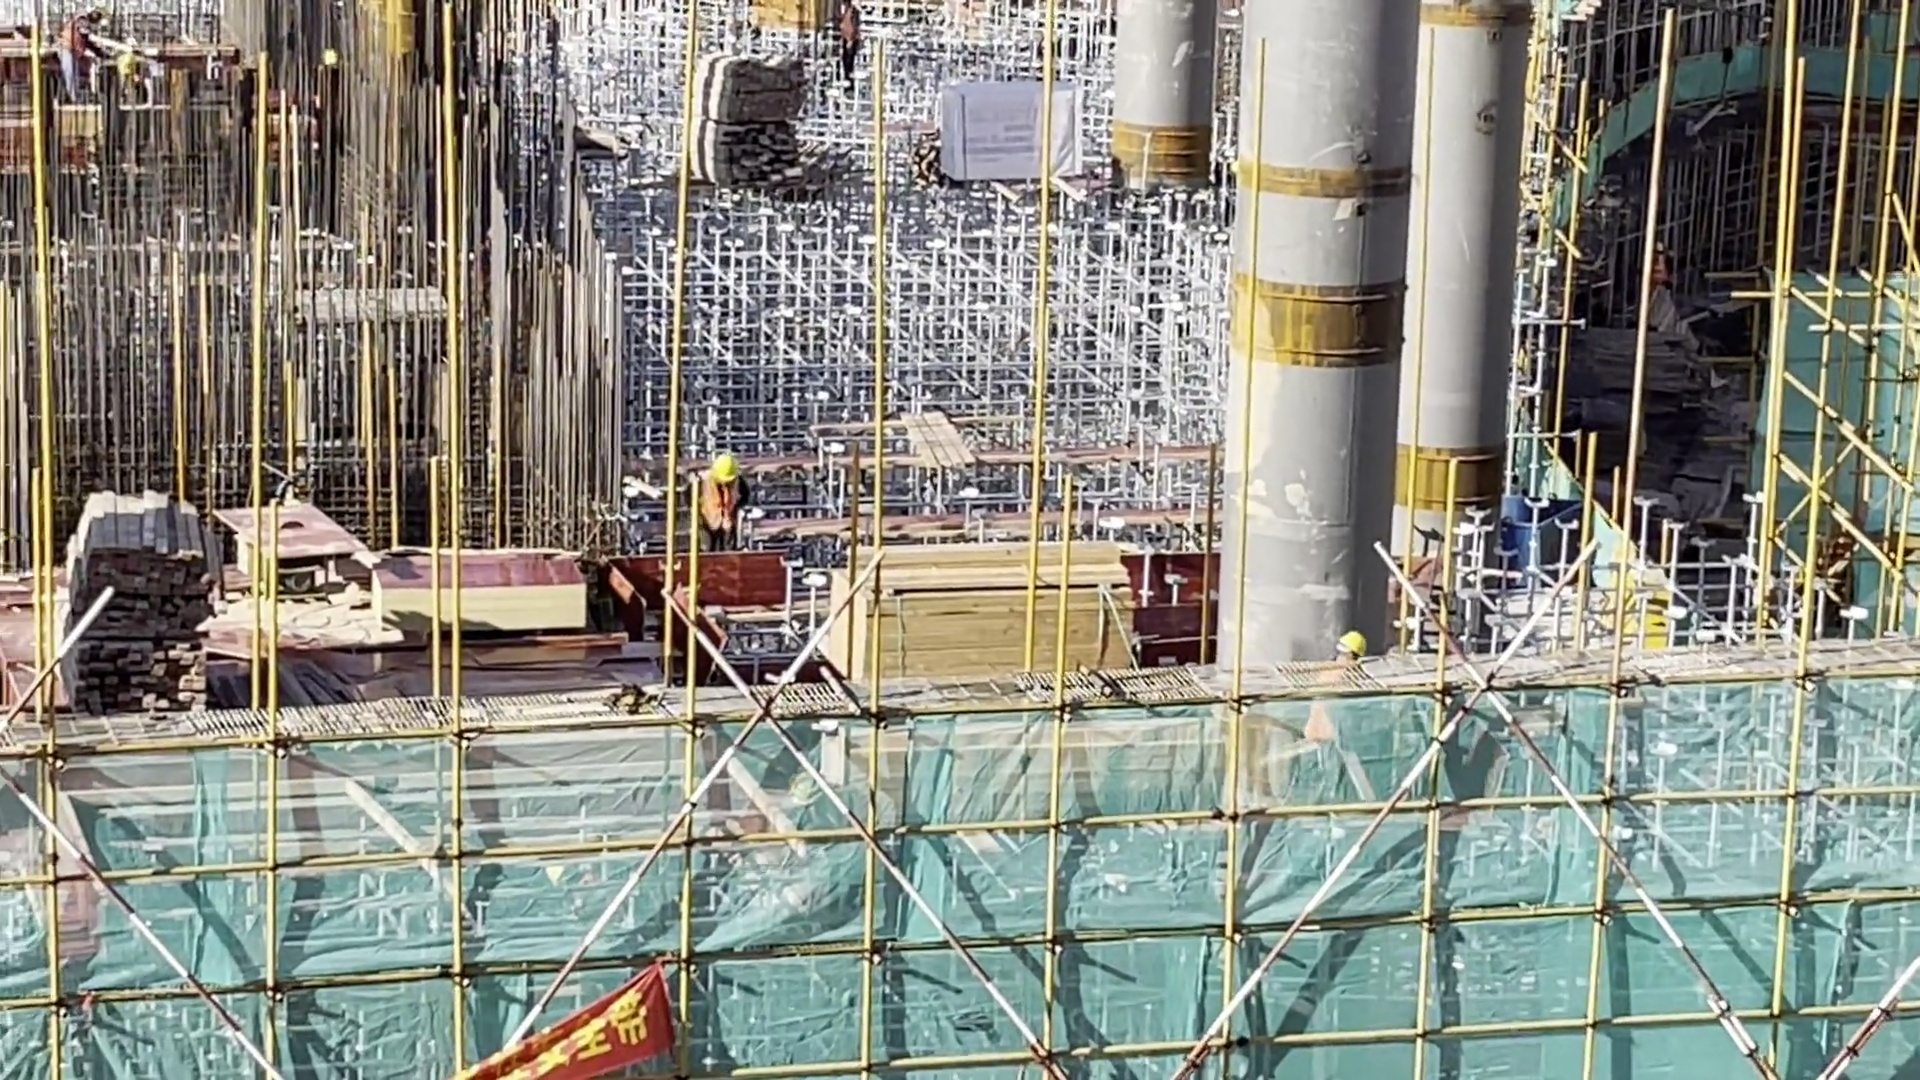helmet: (707, 453, 743, 487)
person: (678, 448, 781, 583)
slogan: (420, 964, 704, 1073)
vest: (696, 475, 738, 530)
wood: (821, 516, 1151, 706), (56, 457, 223, 717)
